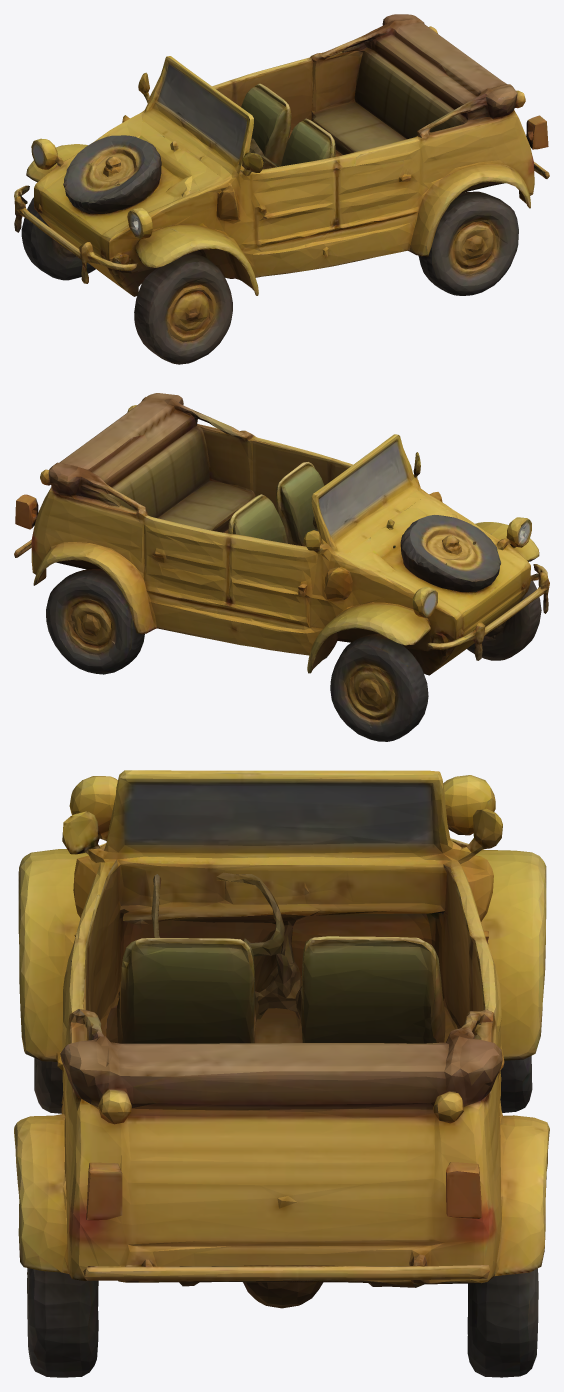
Rendered from kubelwagen.glb.
The picture shows the model from 3 angles, top to bottom: view 1: azimuth 30°, elevation 25°; view 2: azimuth 150°, elevation 25°; view 3: azimuth 270°, elevation 25°; orthographic projection. The views are drawn at different scales.
Visible parts, largest first — view 1: geometry_0; view 2: geometry_0; view 3: geometry_0.
Boxes of the visible parts, x1,y1,x2,y2 form: geometry_0: (14,14,549,364); geometry_0: (14,393,549,741); geometry_0: (14,770,549,1377).
Bounding box in the file's own units: 0.9985 × 0.4536 × 0.5377.
Materials: 1 (1 with a texture image).
